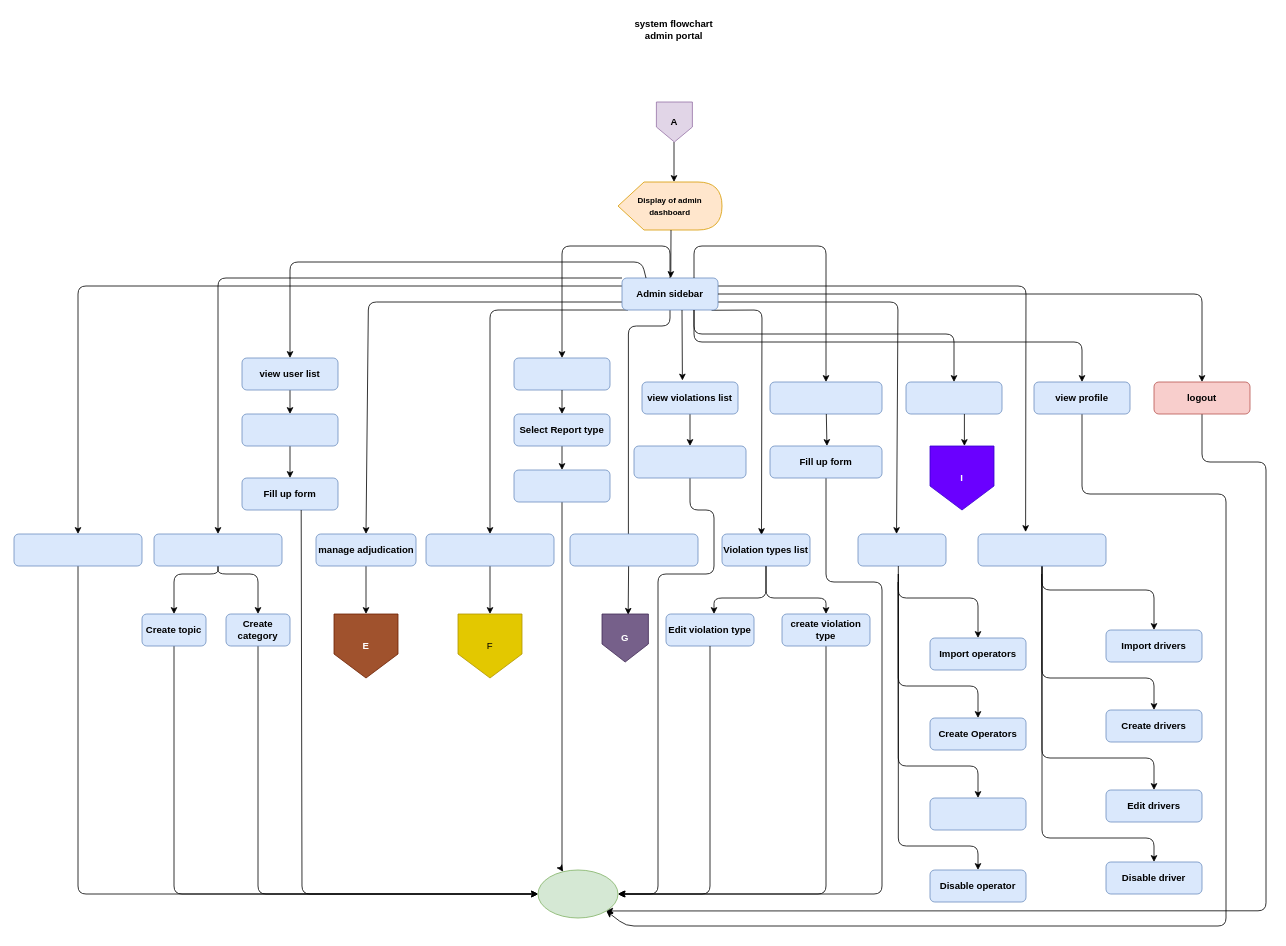
The diagram is 1286 pixels wide and 946 high, and some of its shapes have lost their labels. The centre of each missing label's shape, as x and y in pixels:
"create announcement" goes at pixel 825 397.
"create user" goes at pixel 289 429.
"Data analytics" goes at pixel 561 373.
"Driver List" goes at pixel 1041 549.
"Edit operators" goes at pixel 977 813.
"end" goes at pixel 577 893.
"Generate report" goes at pixel 561 485.
"issue violation" goes at pixel 633 549.
"manage education content" goes at pixel 217 549.
"manage quizzes" goes at pixel 489 549.
"Operator List" goes at pixel 901 549.
"Payment processing" goes at pixel 953 397.
"view activity logs" goes at pixel 77 549.
"View details" goes at pixel 689 461.
